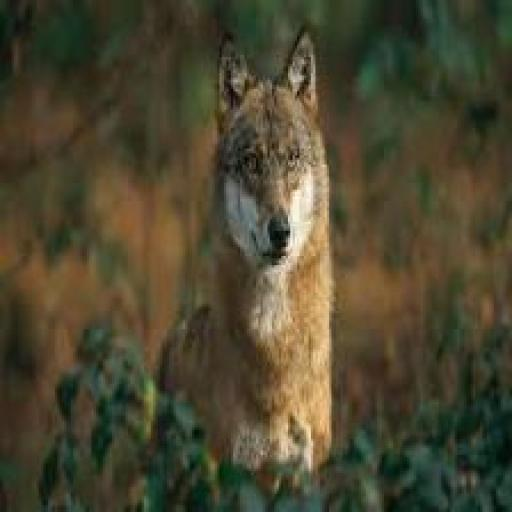wolf: (178, 11, 349, 512)
